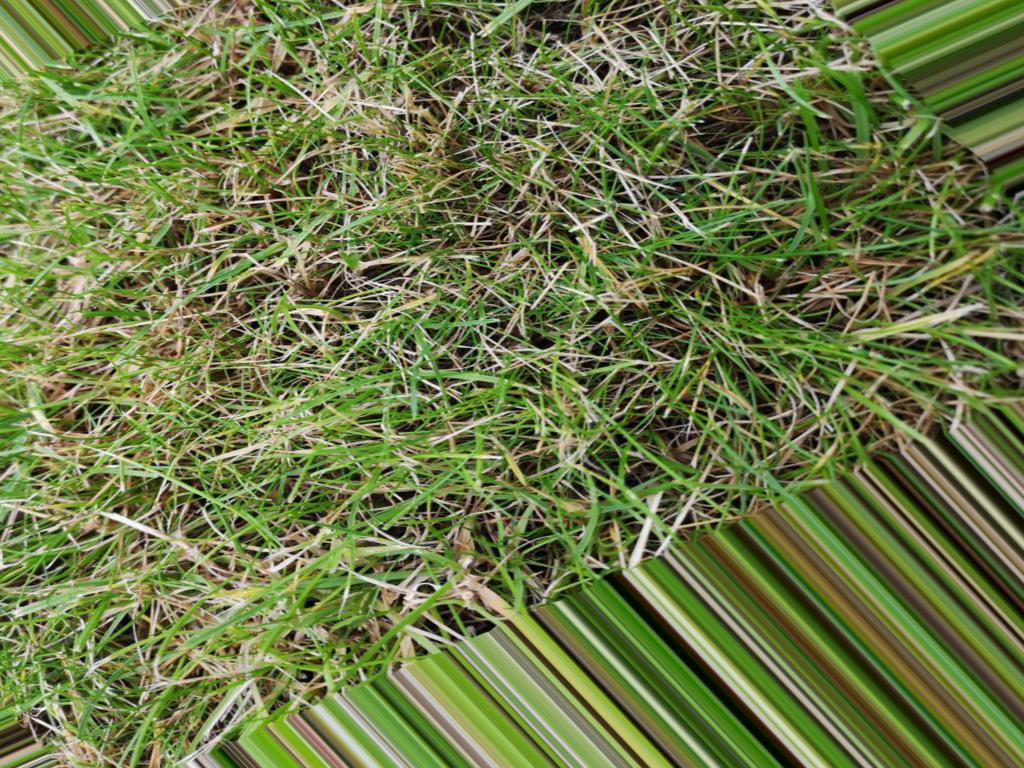patch: (81, 279, 188, 410)
